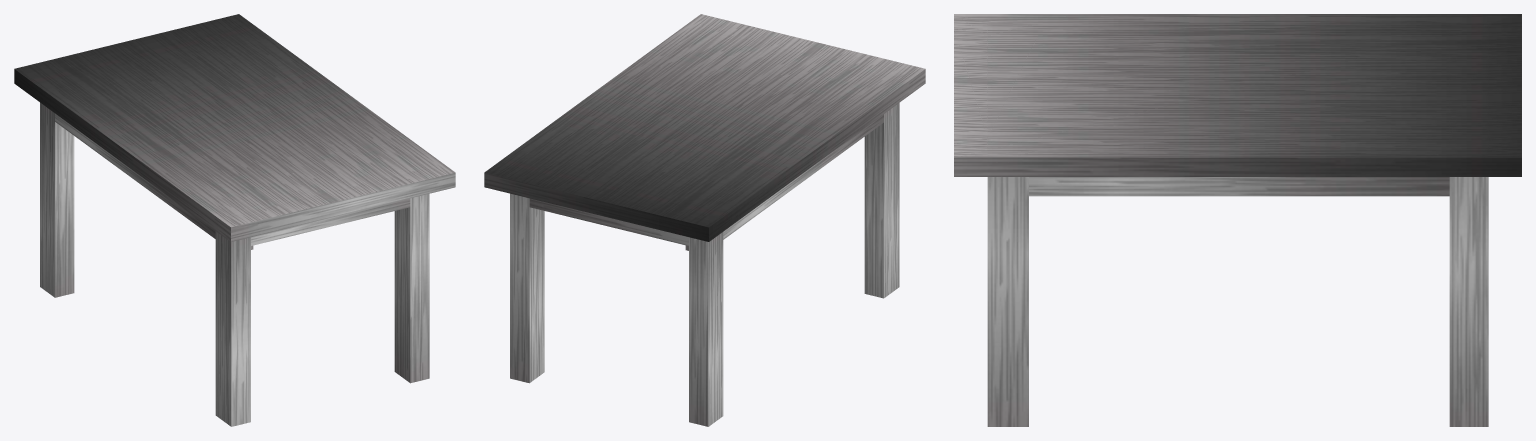
The model's file is tablemetal.obj.
The picture shows the model from 3 angles, left to right: view 1: azimuth 30°, elevation 25°; view 2: azimuth 150°, elevation 25°; view 3: azimuth 270°, elevation 25°; orthographic projection. The views are drawn at different scales.
Parts seen in each view (by area): view 1: Cube.029_Cube.000; view 2: Cube.029_Cube.000; view 3: Cube.029_Cube.000.
Part boxes in pixels (<box>): Cube.029_Cube.000: <box>14,14,455,426</box>; Cube.029_Cube.000: <box>484,14,925,426</box>; Cube.029_Cube.000: <box>954,14,1521,426</box>.
Size of the model in its own units: 1.47 by 1.33 by 2.46.
1 material, 1 textured.
